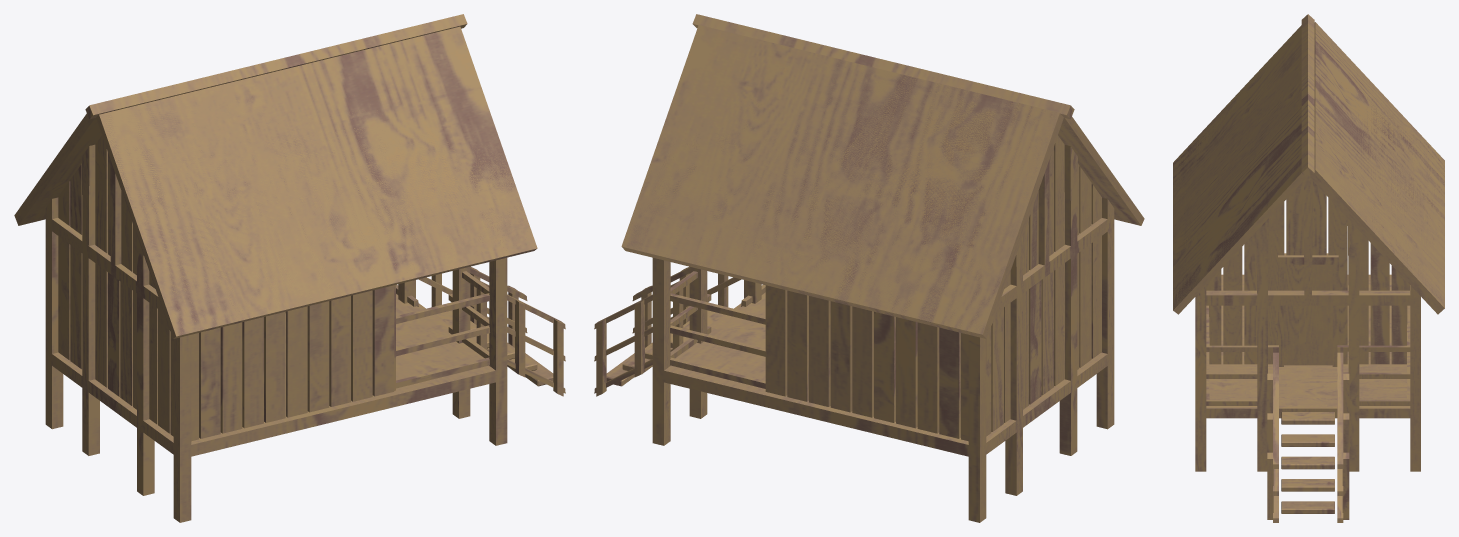
Rendered from cabin.fbx.
3 renders of one model, left to right at view 1: azimuth 30°, elevation 25°; view 2: azimuth 150°, elevation 25°; view 3: azimuth 270°, elevation 25°, orthographic. The views are drawn at different scales.
Visible parts, largest first — view 1: Plane; view 2: Plane; view 3: Plane.
Part boxes in pixels (<box>): Plane: <box>14,14,565,522</box>; Plane: <box>594,14,1144,522</box>; Plane: <box>1173,14,1444,522</box>.
Size of the model in its own units: 1052 by 848 by 648.
1 material, 1 textured.
